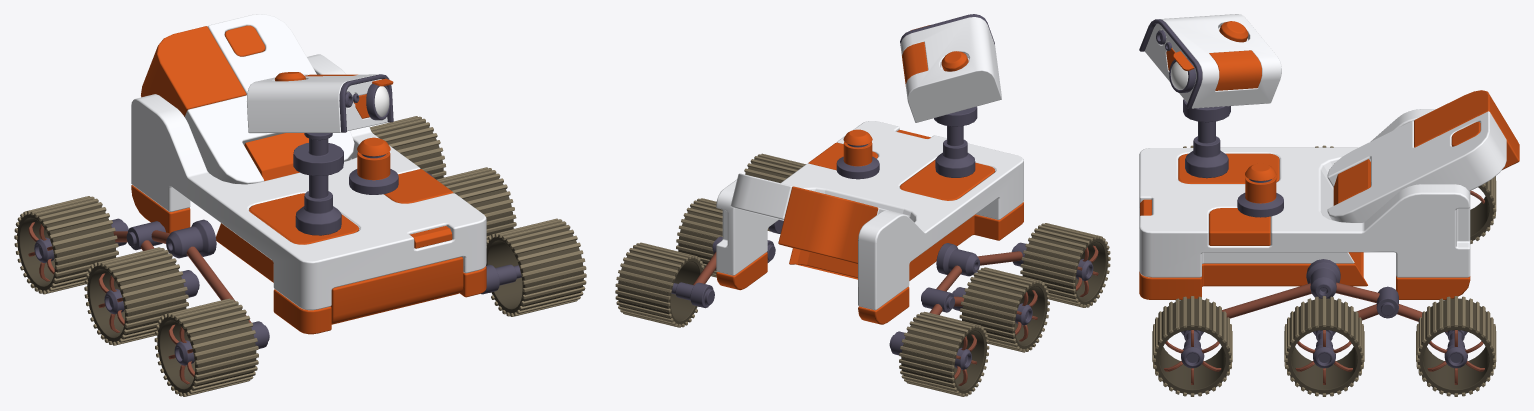
File: Rover.fbx
3 views of the same model, side by side, from view 1: azimuth 30°, elevation 25°; view 2: azimuth 150°, elevation 25°; view 3: azimuth 270°, elevation 25° (orthographic). The views are drawn at different scales.
Visible parts, largest first — view 1: Rover, Plane.015, Circle.021, Circle.022, Circle.008, Circle.011, Plane.010, Plane.012, Cube.001, Plane.008, Circle.003, Circle.027 (+11 smaller); view 2: Rover, Plane.010, Circle.011, Circle.029, Circle.021, Circle.008, Plane.008, Plane.012, Circle.027, Plane.015, Circle.003, Plane.005 (+8 smaller); view 3: Rover, Plane.015, Plane.010, Plane.008, Circle.029, Circle.027, Circle.022, Plane.012, Circle.003, Plane.007, Circle.013, Plane.001 (+11 smaller).
Part boxes in pixels (x1,y1,x2,y2): Rover: [131, 54, 486, 310]; Plane.015: [185, 14, 354, 184]; Circle.021: [154, 298, 269, 396]; Circle.022: [481, 218, 586, 316]; Circle.008: [84, 247, 199, 345]; Circle.011: [14, 196, 128, 294]; Plane.010: [247, 74, 387, 133]; Plane.012: [141, 26, 246, 116]; Cube.001: [331, 257, 463, 324]; Plane.008: [131, 185, 486, 334]; Circle.003: [293, 133, 343, 235]; Circle.027: [436, 167, 516, 239]; Rover: [716, 121, 1023, 310]; Plane.010: [900, 17, 1001, 122]; Circle.011: [889, 311, 989, 396]; Circle.029: [615, 242, 714, 327]; Circle.021: [1011, 223, 1110, 307]; Circle.008: [952, 267, 1049, 352]; Plane.008: [716, 202, 1023, 324]; Plane.012: [778, 186, 878, 264]; Circle.027: [676, 198, 775, 277]; Plane.015: [730, 173, 909, 220]; Circle.003: [934, 106, 977, 177]; Plane.005: [900, 160, 995, 200]; Rover: [1139, 109, 1470, 277]; Plane.015: [1327, 111, 1506, 222]; Plane.010: [1144, 14, 1281, 108]; Plane.008: [1139, 252, 1470, 299]; Circle.029: [1416, 296, 1496, 396]; Circle.027: [1284, 296, 1364, 396]; Circle.022: [1152, 296, 1232, 396]; Plane.012: [1414, 90, 1519, 169]; Circle.003: [1183, 99, 1230, 178]; Plane.007: [1209, 208, 1270, 245]; Circle.013: [1237, 163, 1283, 217]; Plane.001: [1209, 50, 1261, 90].
Size of the model in its own units: 480 by 336 by 431.
